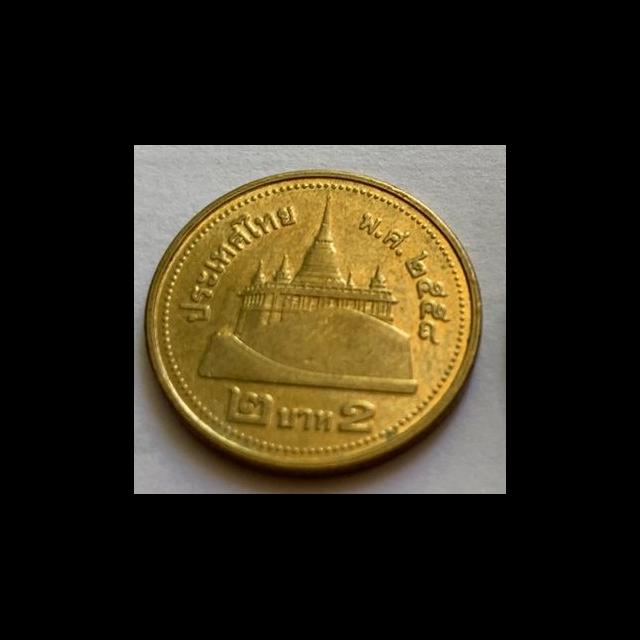2-baht: (134, 146, 506, 494)
